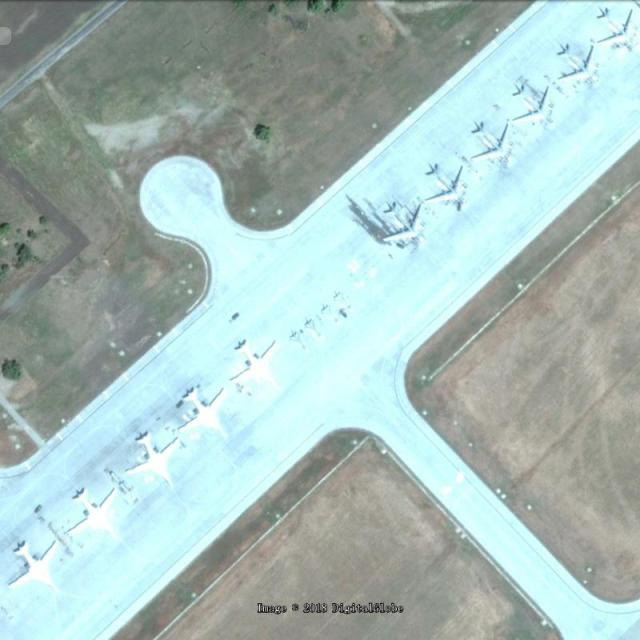fighter jet: (8, 539, 60, 593), (133, 429, 177, 489), (70, 488, 116, 545), (173, 387, 227, 435), (232, 335, 278, 391), (375, 200, 422, 248), (419, 161, 465, 207), (554, 46, 599, 88), (594, 9, 640, 50), (510, 83, 553, 126), (471, 123, 513, 167)
